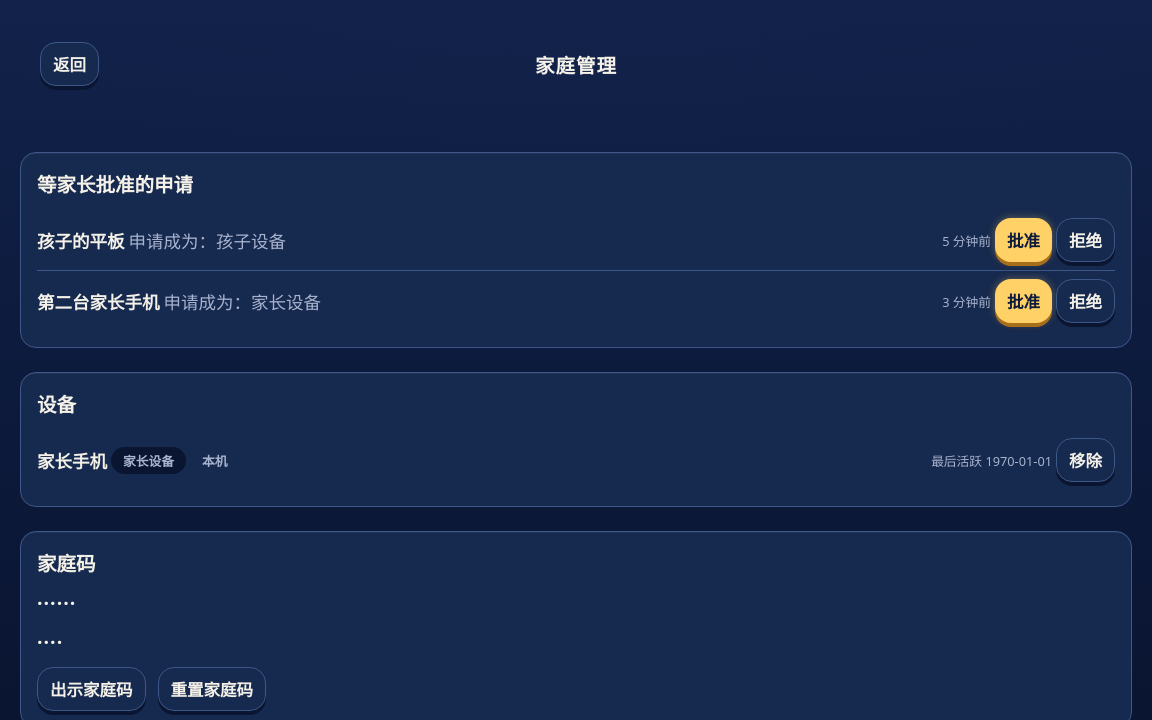
Test: #143 批准 / 拒绝流程（无二次确认） › 操作失败（network）：错误反馈文案，行保留可重试
Click the button "批准" next to "5 分钟前".
click(1024, 240)  # box [995,218,1052,262]
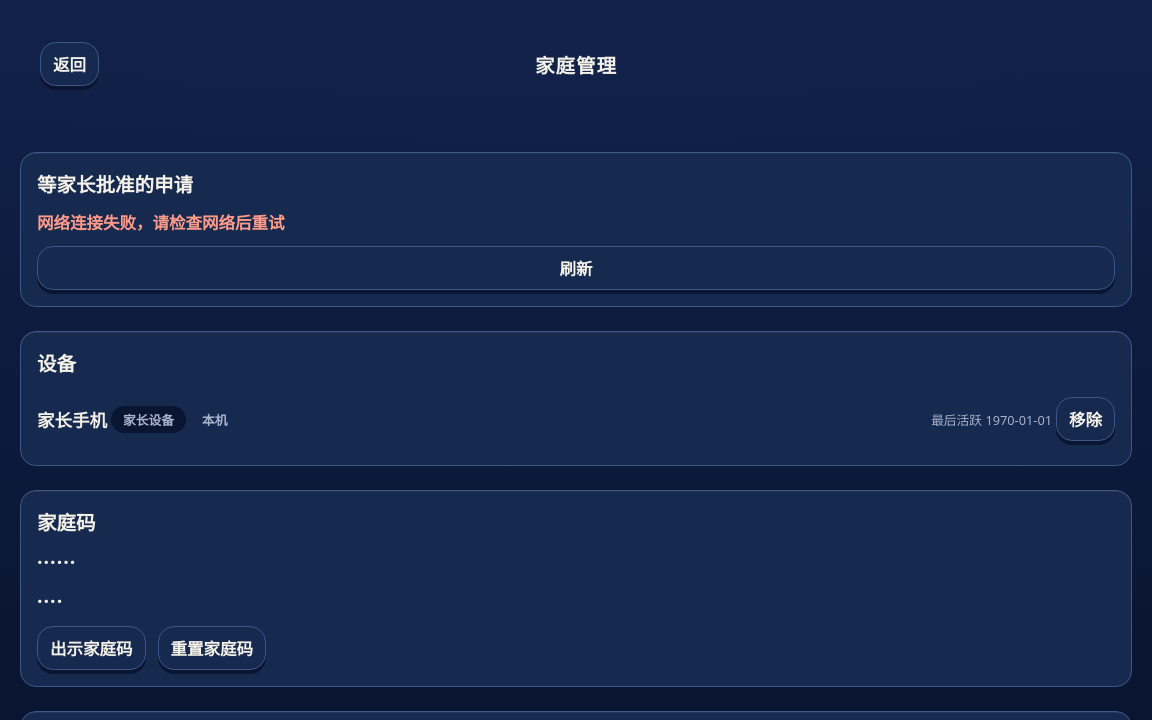
Expected: the message with class "star-section-error" reads "网络连接失败，请检查网络后重试", [37,211,284,234]
Expected: the button with class "star-section-refresh" is shown, [37,246,1115,290]
